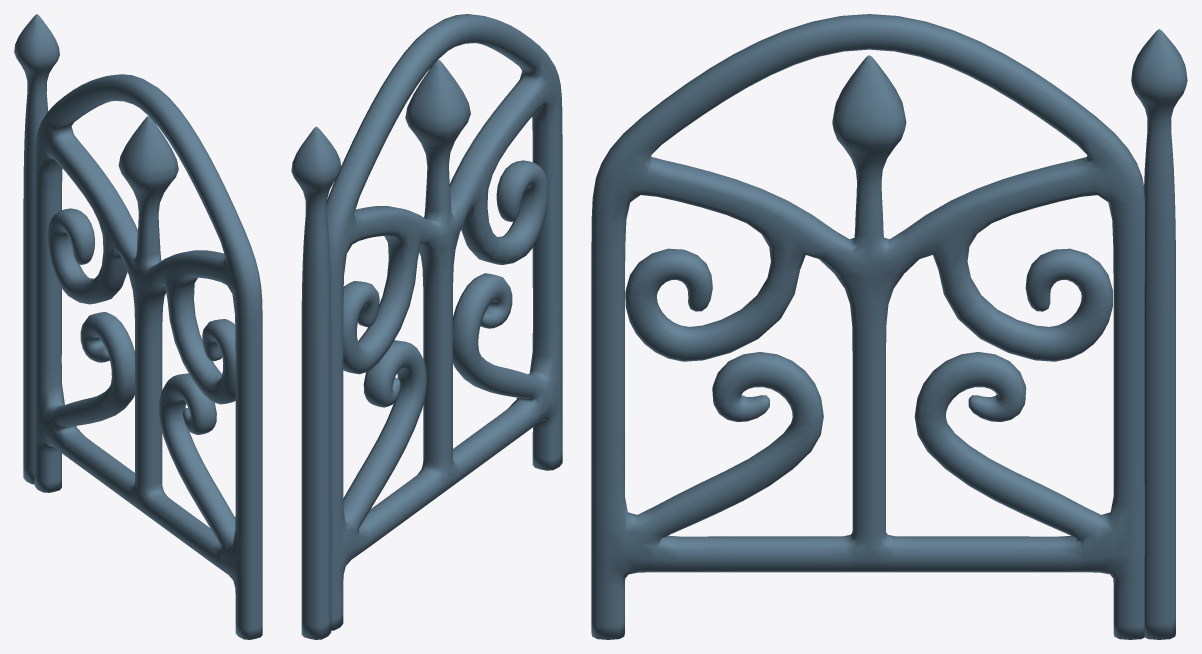
File: Fence.fbx
The picture shows the model from 3 angles, left to right: view 1: azimuth 30°, elevation 25°; view 2: azimuth 150°, elevation 25°; view 3: azimuth 270°, elevation 25°; orthographic projection. The views are drawn at different scales.
Parts seen in each view (by area): view 1: Fence.Mesh; view 2: Fence.Mesh; view 3: Fence.Mesh.
Part boxes in pixels (left/top/right/bottom): Fence.Mesh: left=14, top=14, right=262, bottom=639; Fence.Mesh: left=291, top=14, right=562, bottom=639; Fence.Mesh: left=591, top=14, right=1187, bottom=639.
Size of the model in its own units: 24.53 by 235 by 206.
